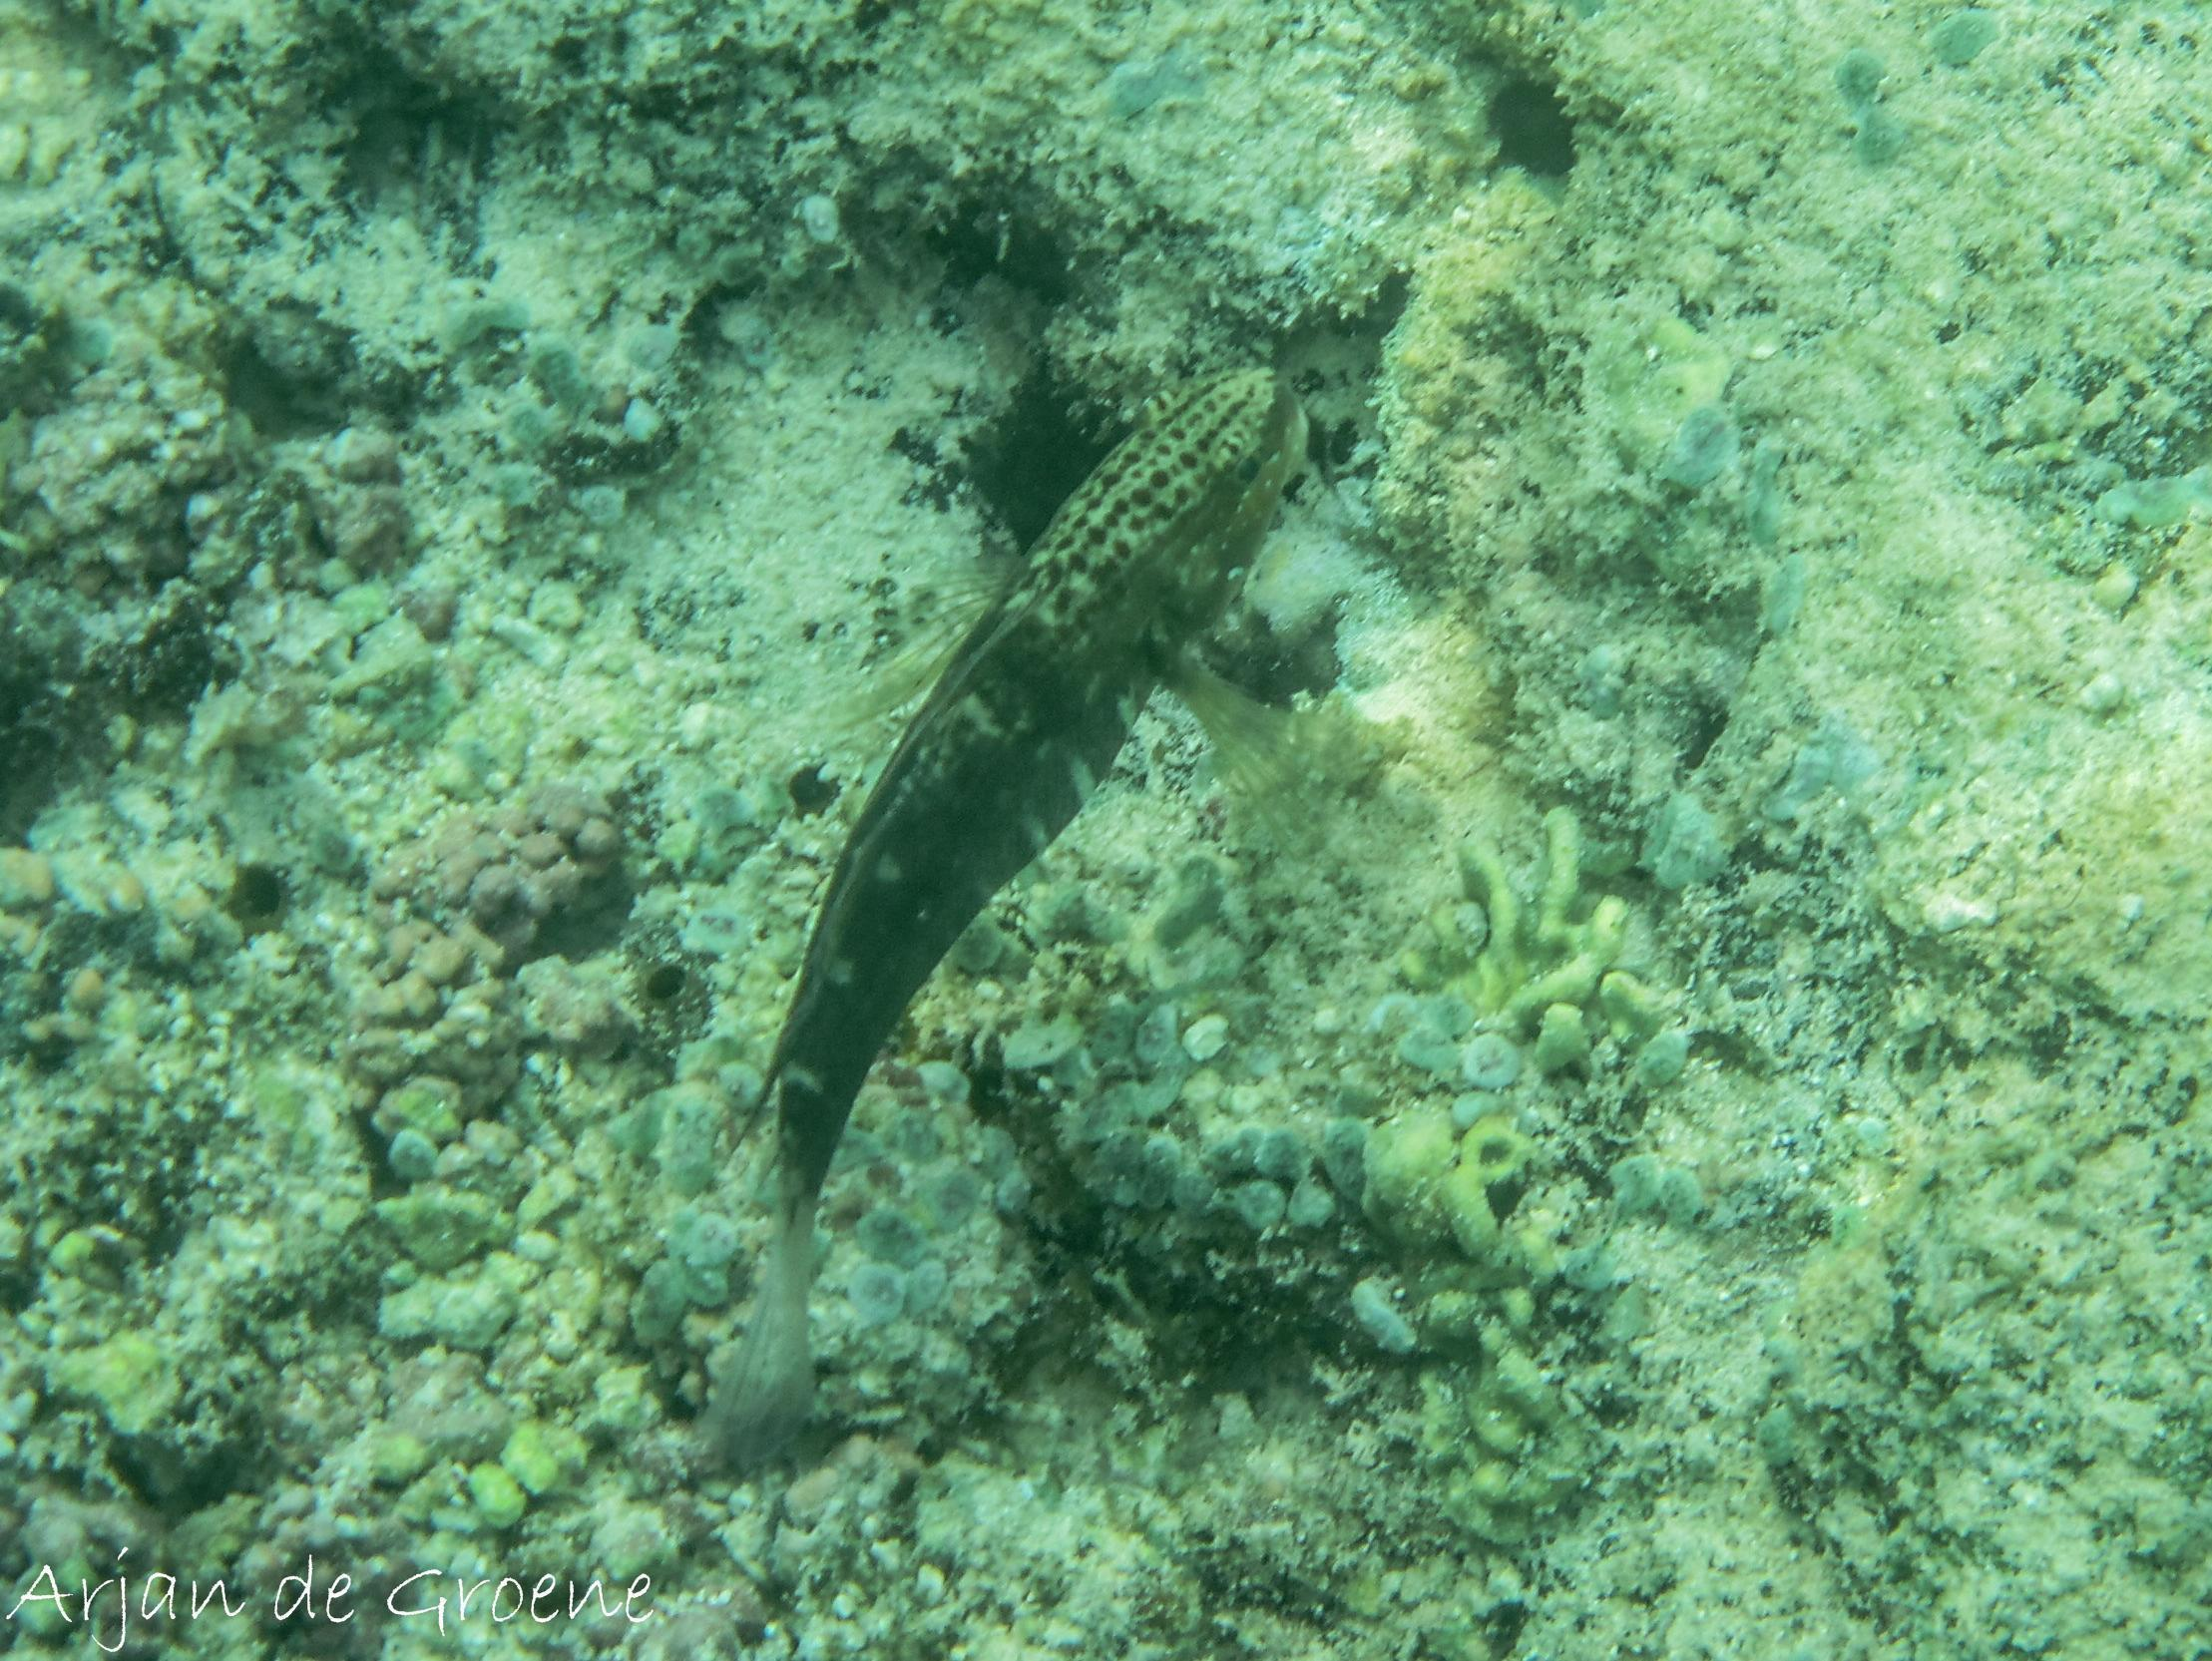Fish: (574, 230, 1342, 1530)
